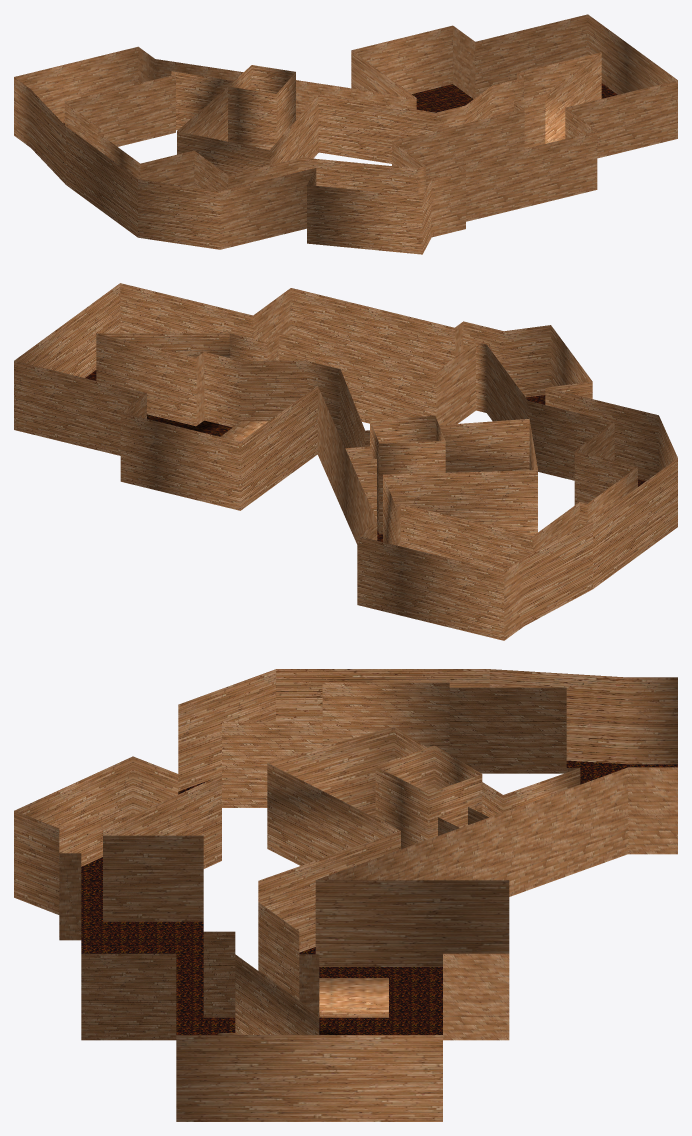
3 views of the same model, one above another, from view 1: azimuth 30°, elevation 25°; view 2: azimuth 150°, elevation 25°; view 3: azimuth 270°, elevation 25° (orthographic). The views are drawn at different scales.
Parts seen in each view (by area): view 1: 0.003, 1.003; view 2: 0.003, 1.003; view 3: 0.003, 1.003.
Boxes of the visible parts, x1=… form: 0.003: x1=14, y1=14, x2=677, y2=254; 1.003: x1=63, y1=83, x2=617, y2=124; 0.003: x1=14, y1=283, x2=677, y2=640; 1.003: x1=85, y1=370, x2=645, y2=541; 0.003: x1=14, y1=669, x2=677, y2=1121; 1.003: x1=81, y1=760, x2=677, y2=1034.
Bounding box in the file's own units: 97405 × 14168 × 74680.
2 materials, 2 textured.
